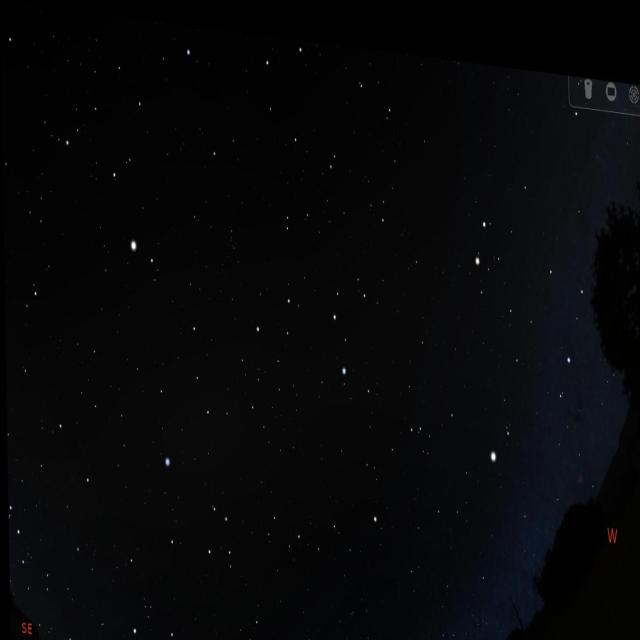bootes: (73, 44, 172, 274)
canis_minor: (475, 398, 518, 466)
gemini: (463, 184, 578, 368)
leo: (246, 248, 391, 407)
